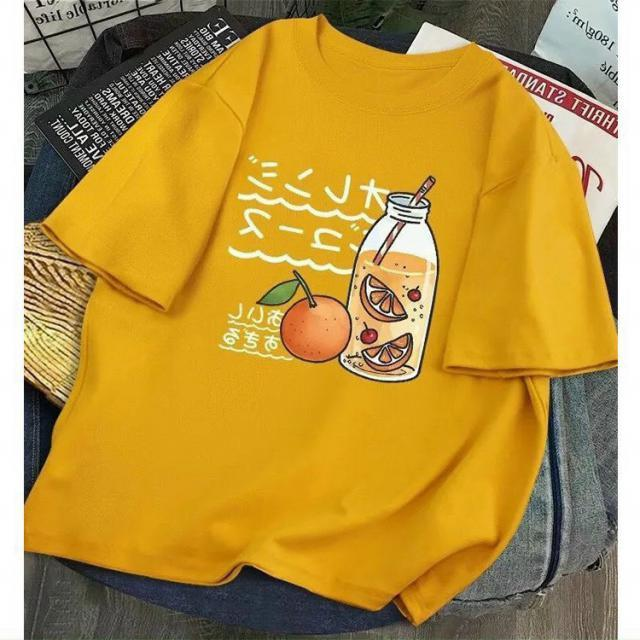Shirt: (23, 11, 618, 624)
